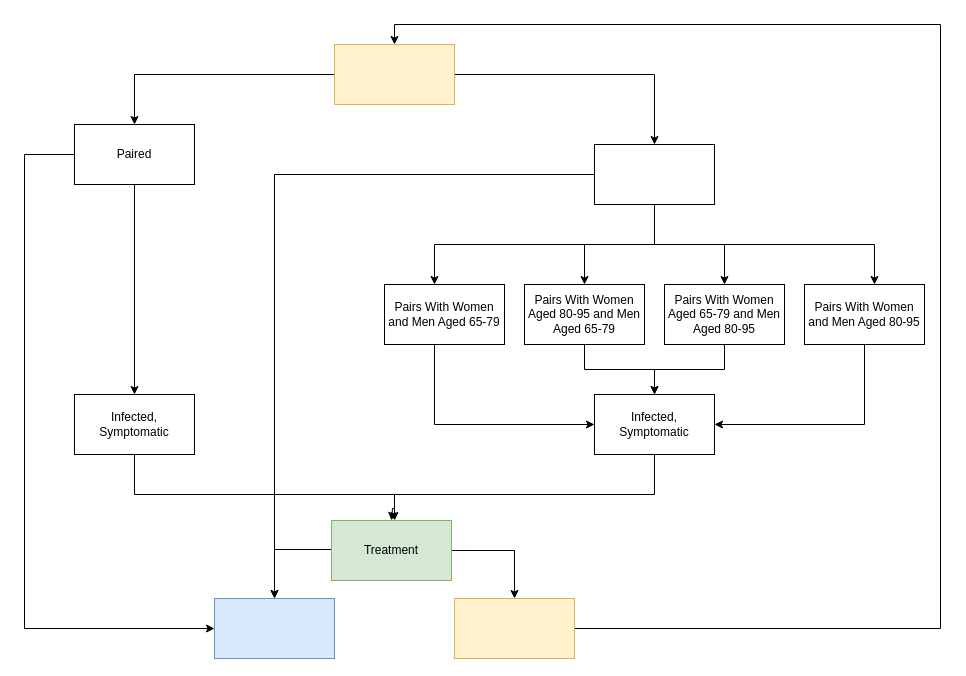
This 966x676 diagram has some shape labels left out. The shapes that lost their labels are listed below. From the top down, each one's box as (x1, y1, x2, y2) in pixels, then its label:
(334, 44, 454, 104): Community
(594, 144, 714, 204): Single
(214, 598, 334, 658): Death
(454, 598, 574, 658): Recovery
